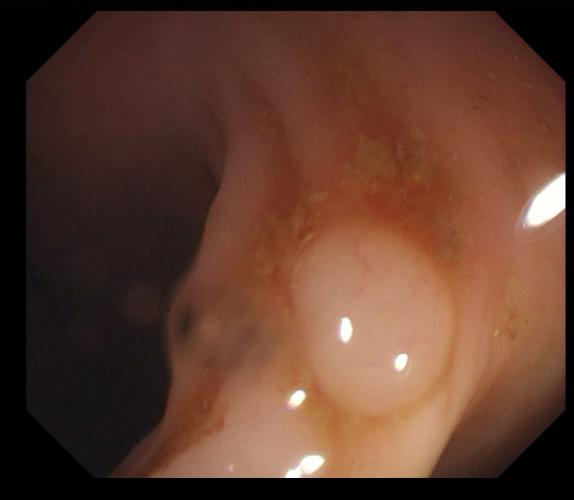polyp: (289, 229, 458, 416), (151, 372, 328, 476)
